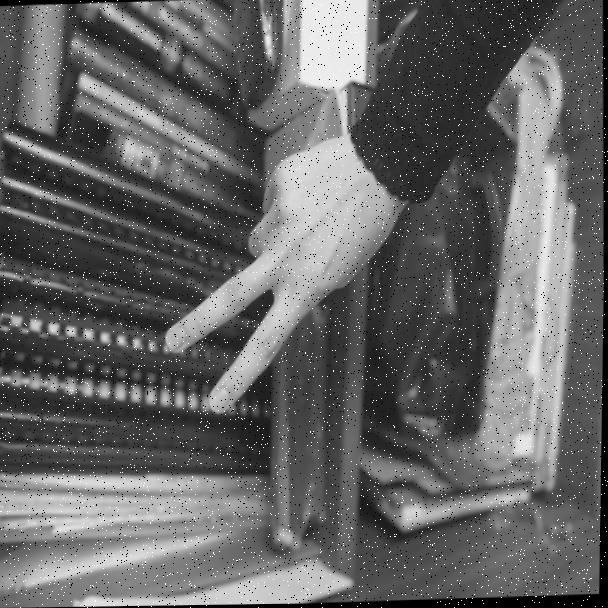two: (145, 101, 470, 466)
